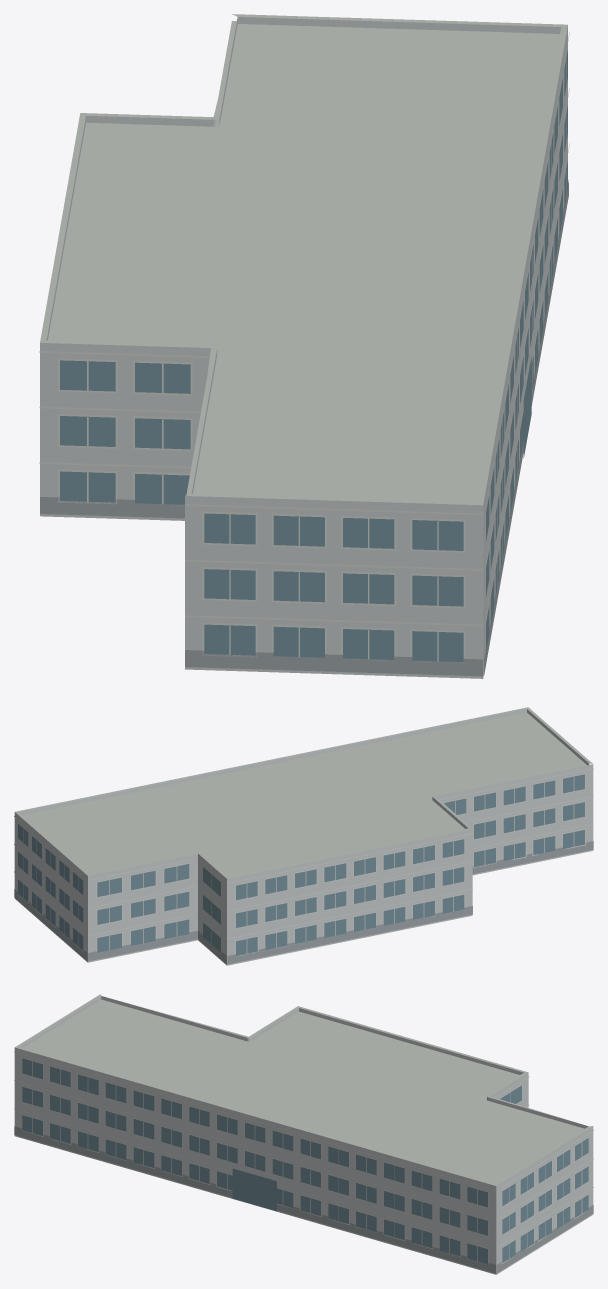
Rendered from public-e82603c2-9ffb-43fa-ae31-5037fcaa1db0.glb.
The picture shows the model from 3 angles, top to bottom: view 1: azimuth 30°, elevation 25°; view 2: azimuth 150°, elevation 25°; view 3: azimuth 270°, elevation 25°; orthographic projection. The views are drawn at different scales.
Parts seen in each view (by area): view 1: public-e82603c2-9ffb-43fa-ae31-5037fcaa1db0; view 2: public-e82603c2-9ffb-43fa-ae31-5037fcaa1db0; view 3: public-e82603c2-9ffb-43fa-ae31-5037fcaa1db0.
Boxes of the visible parts, bbox=[...] form: public-e82603c2-9ffb-43fa-ae31-5037fcaa1db0: bbox=[39, 14, 569, 678]; public-e82603c2-9ffb-43fa-ae31-5037fcaa1db0: bbox=[14, 707, 593, 965]; public-e82603c2-9ffb-43fa-ae31-5037fcaa1db0: bbox=[14, 994, 593, 1274].
Bounding box in the file's own units: 42.6 × 9.15 × 54.21.
